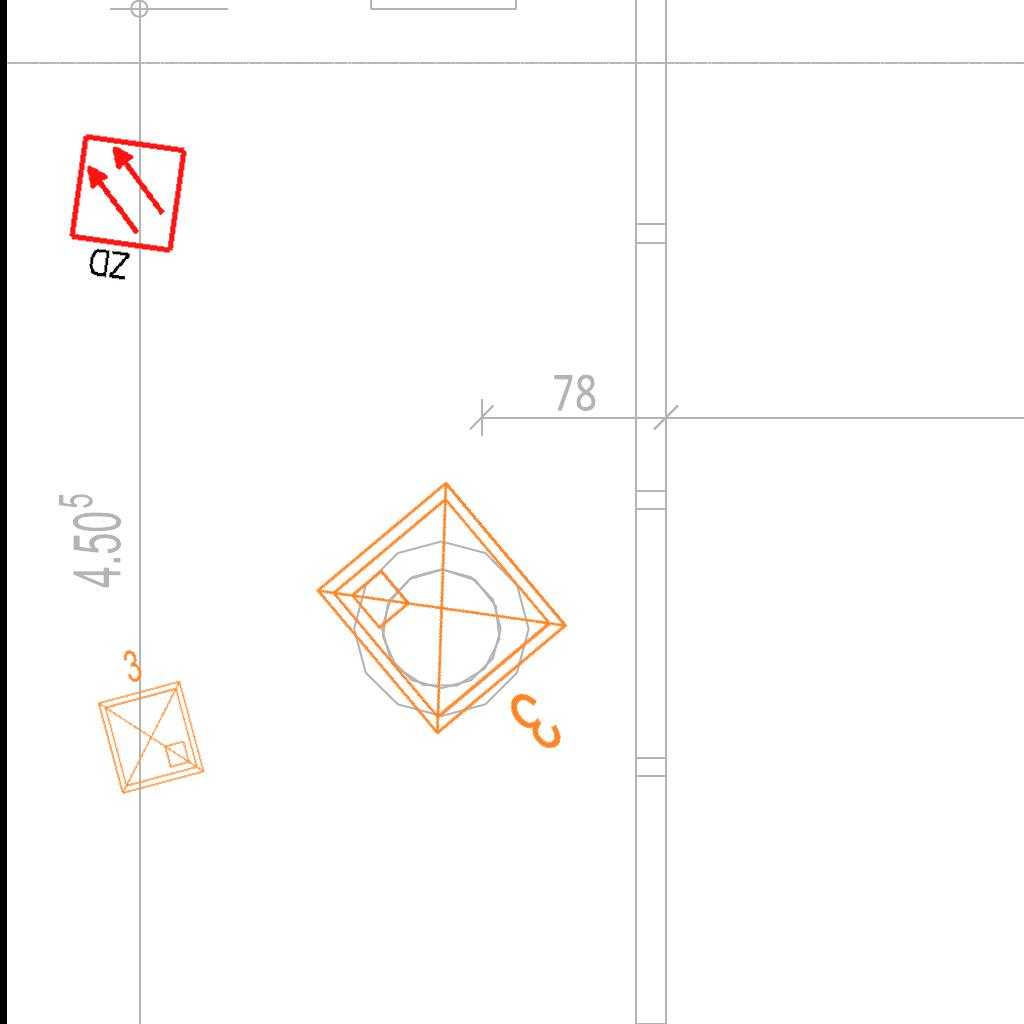Einbaudownlights_LED_Konferenzraeume: (294, 455, 648, 819), (74, 632, 214, 804)
ZD_Melder_in_Zwischendecke_mit_Revisionsoeffnung_mind_40_x_40_cm: (60, 130, 194, 295)
